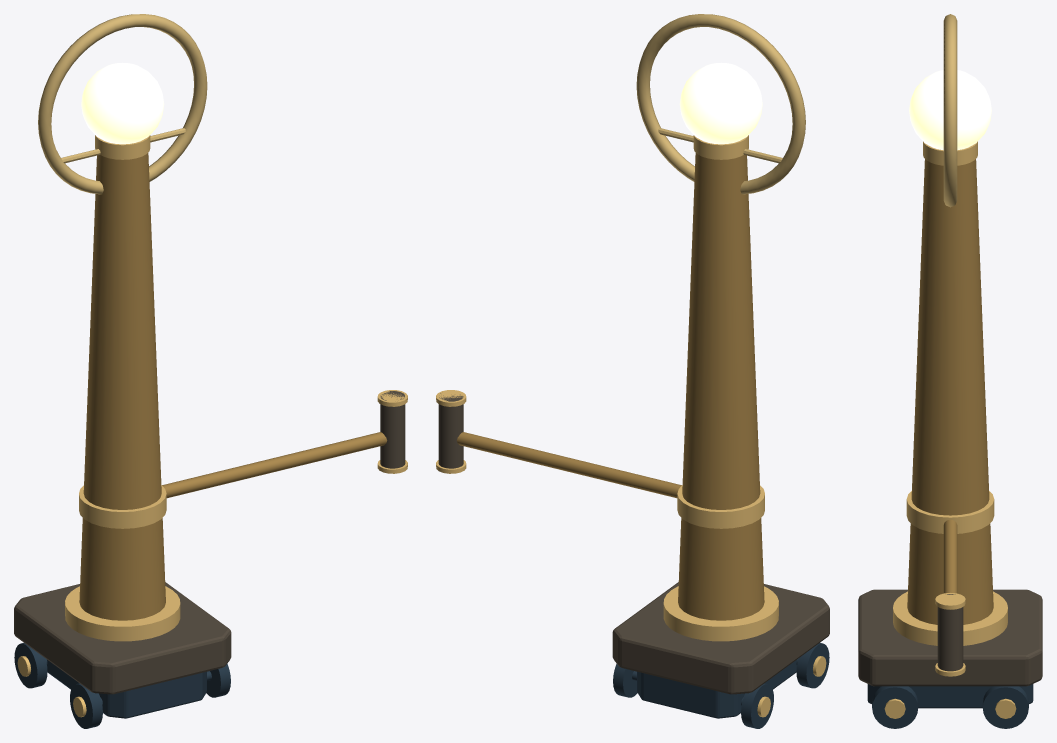
Rendered from silhouette-lamp-stand-v01.glb.
3 views of the same model, side by side, from view 1: azimuth 30°, elevation 25°; view 2: azimuth 150°, elevation 25°; view 3: azimuth 270°, elevation 25° (orthographic).
Visible parts, largest first — view 1: Shadow brass 3, Shadow bronze dark 4, Shadow brass light 2, Shadow gold 1, Shadow iron dark 5, Shadow lamp glow 0; view 2: Shadow brass 3, Shadow bronze dark 4, Shadow brass light 2, Shadow gold 1, Shadow iron dark 5, Shadow lamp glow 0; view 3: Shadow brass 3, Shadow bronze dark 4, Shadow brass light 2, Shadow iron dark 5, Shadow lamp glow 0, Shadow gold 1.
Boxes of the visible parts, <box> form: Shadow brass 3: <box>79,153,387,620</box>; Shadow bronze dark 4: <box>14,391,405,694</box>; Shadow brass light 2: <box>17,135,407,717</box>; Shadow gold 1: <box>38,14,207,194</box>; Shadow iron dark 5: <box>14,643,230,728</box>; Shadow lamp glow 0: <box>81,62,164,144</box>; Shadow brass 3: <box>456,153,764,620</box>; Shadow bronze dark 4: <box>438,393,829,694</box>; Shadow brass light 2: <box>436,135,826,717</box>; Shadow gold 1: <box>636,14,805,194</box>; Shadow iron dark 5: <box>613,643,829,728</box>; Shadow lamp glow 0: <box>679,62,762,144</box>; Shadow brass 3: <box>907,159,993,624</box>; Shadow bronze dark 4: <box>858,589,1042,686</box>; Shadow brass light 2: <box>884,141,1016,718</box>; Shadow iron dark 5: <box>867,684,1033,728</box>; Shadow lamp glow 0: <box>909,70,991,150</box>; Shadow gold 1: <box>943,14,957,207</box>.
Bounding box in the file's own units: 1.84 × 3.22 × 0.8.
